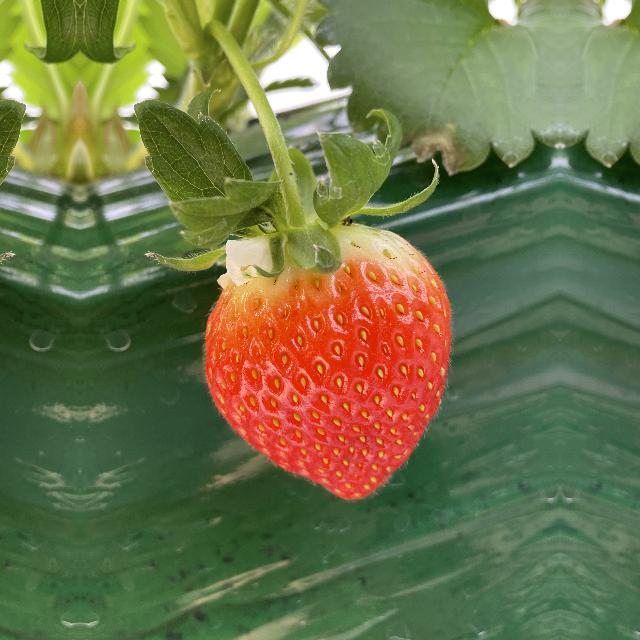Health_100: (195, 225, 462, 501)
